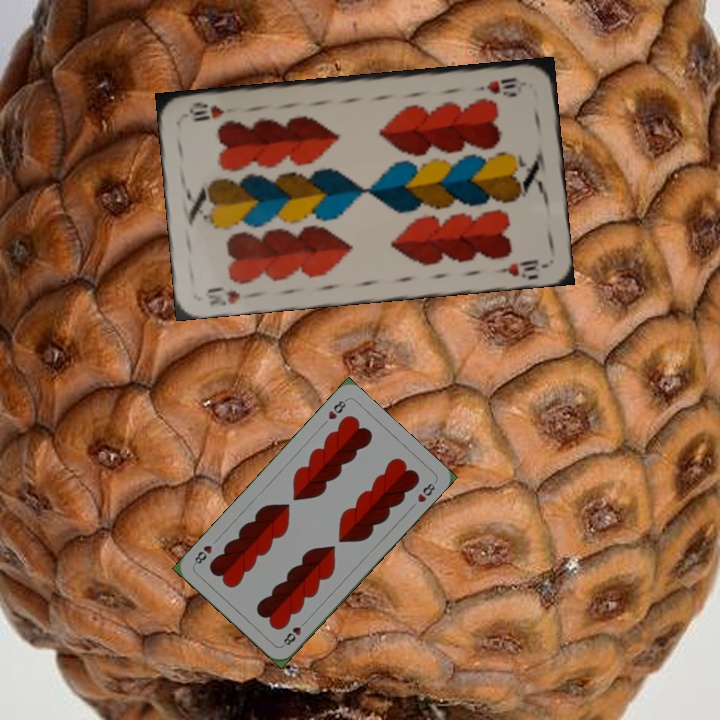H10: (471, 73, 519, 96), (201, 283, 243, 308)
H8: (279, 616, 310, 649), (324, 395, 349, 422)
